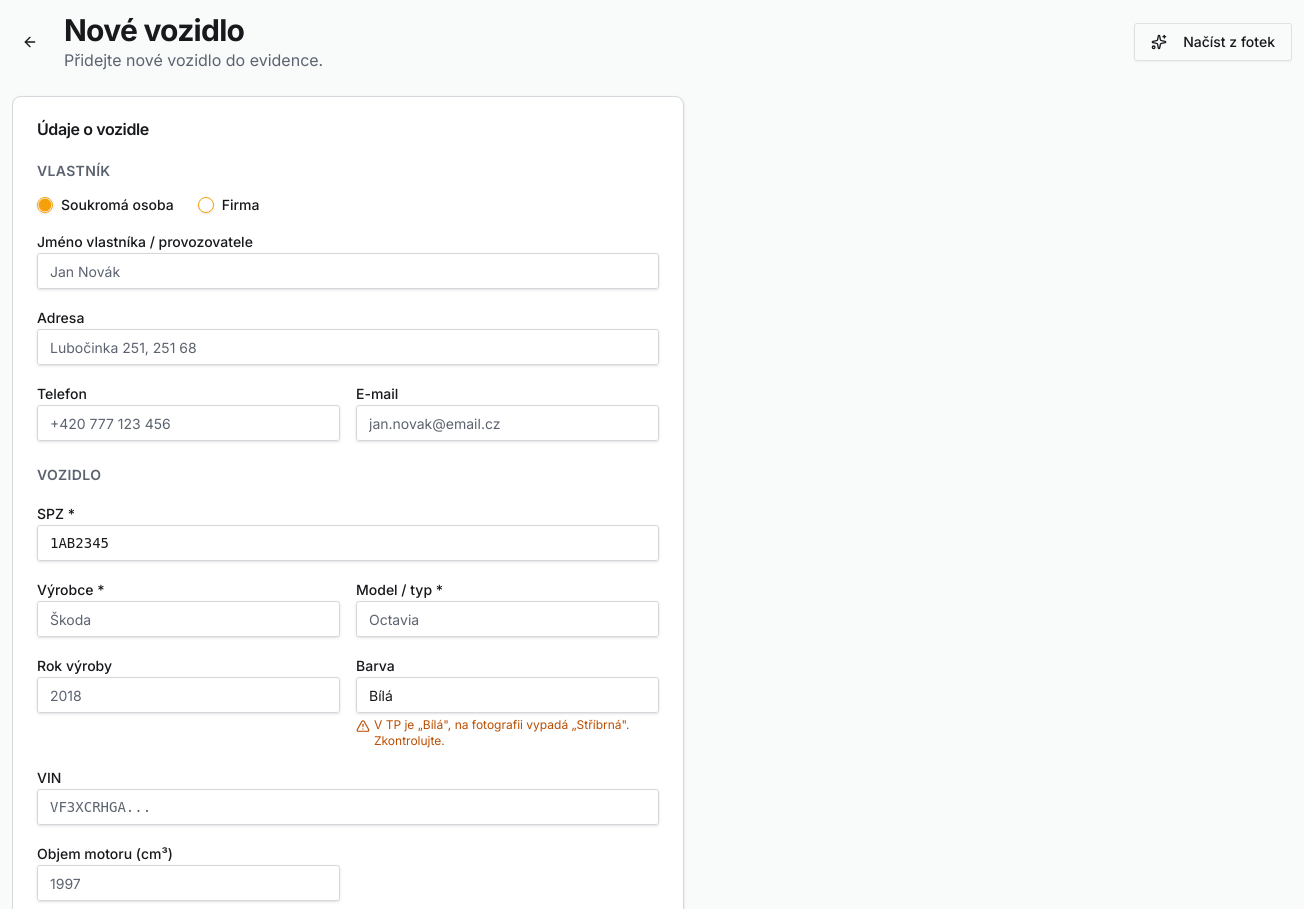
Test: New vehicle color-mismatch warning after a scan › clears the warning once the user edits the Barva field
The width and height of the screenshot is (1304, 909).
Expected: the text "na fotografii vypadá" is shown, [443, 717, 577, 732]
Type "X" into the field showing "Bílá" below "Barva" at x=508, y=695, box [356, 677, 659, 713]
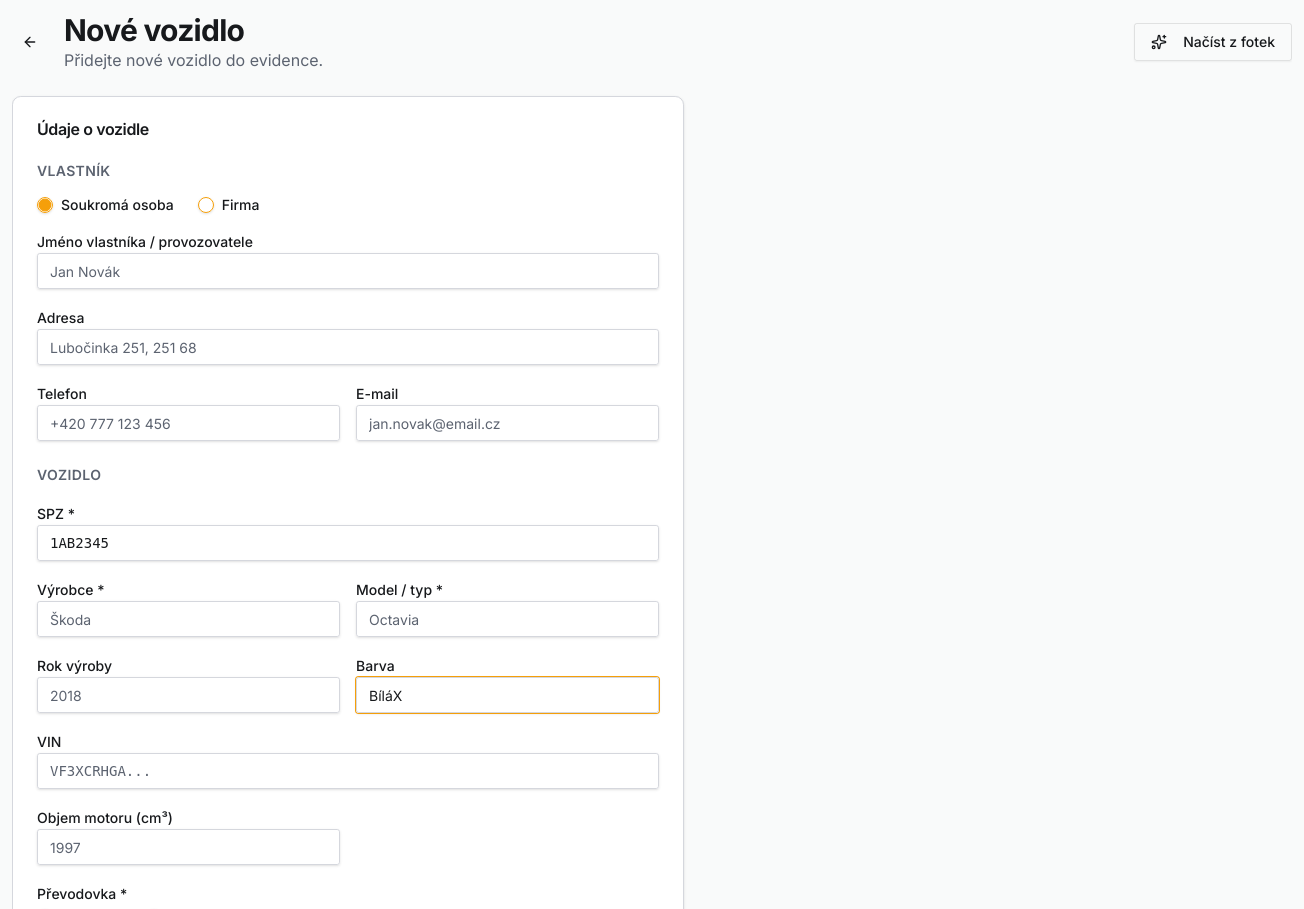
Result: the text "na fotografii vypadá" is gone
